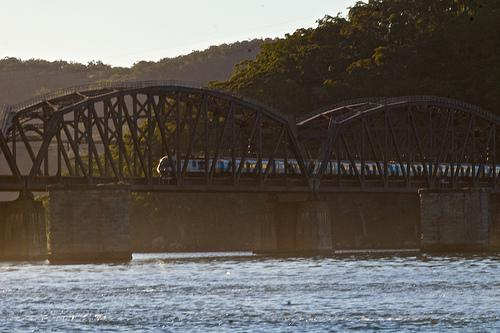Train: (159, 160, 499, 182)
